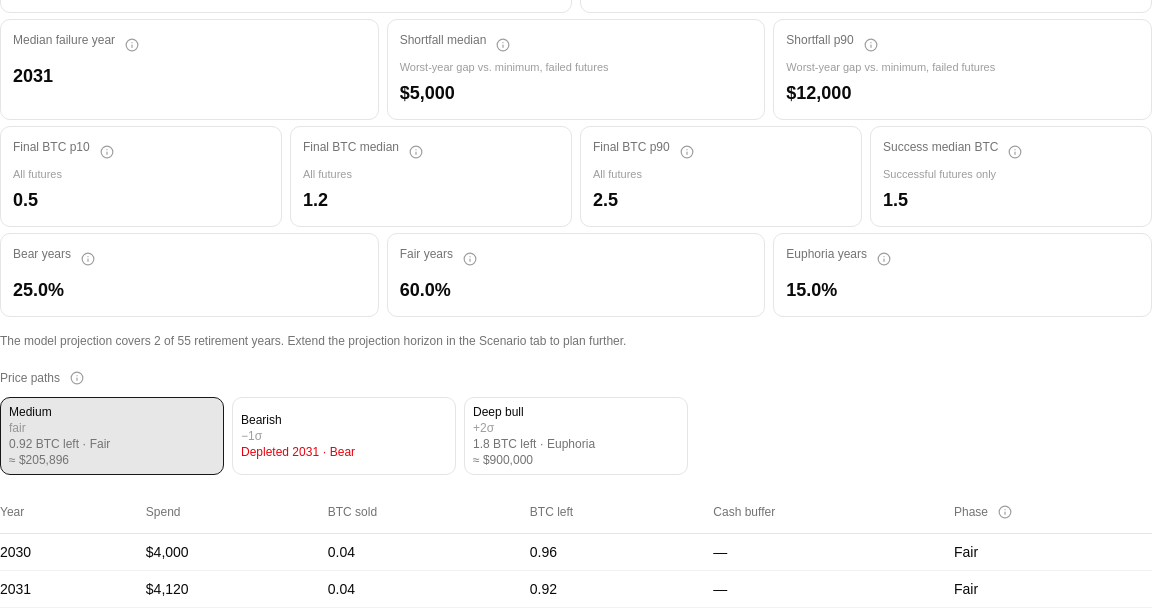
WithdrawalResults › shows info buttons for price paths and the phase column
(page scrolled)
Check: the button named "About Phase" is shown, box [992,499,1018,525]
Click the button named "About Price paths" at (77, 378), box [64,365,90,391]
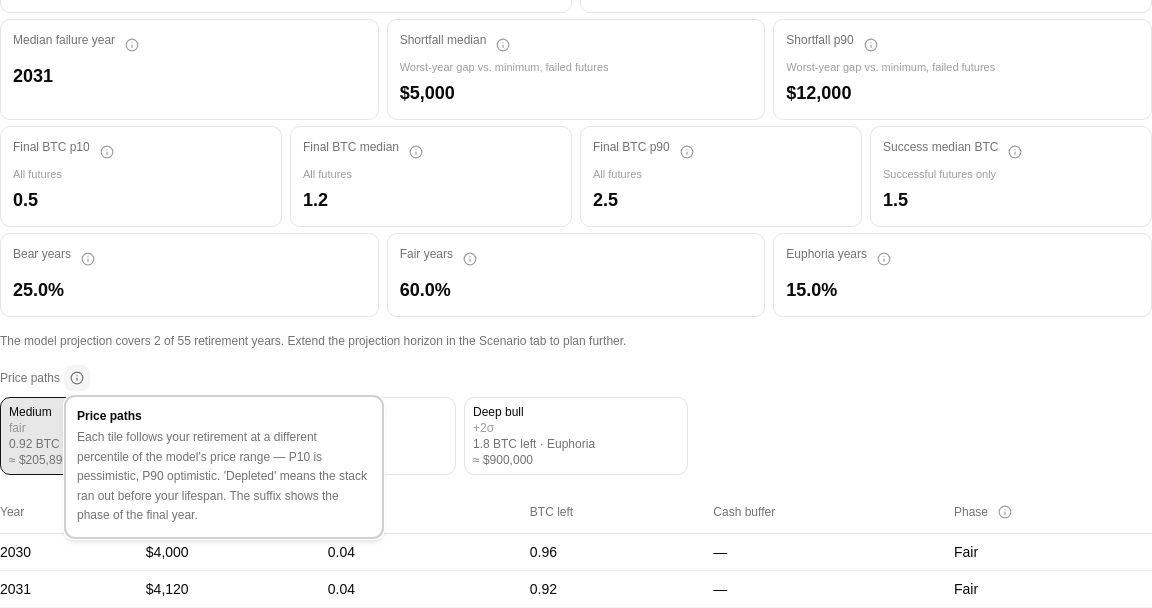
Check: the text "P10 is pessimistic" is shown, box [77,430,367,522]
